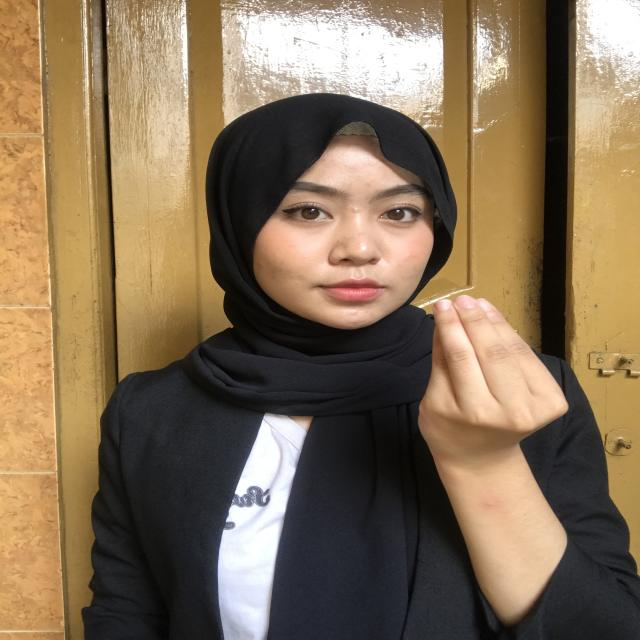kapan: (403, 290, 585, 477)
